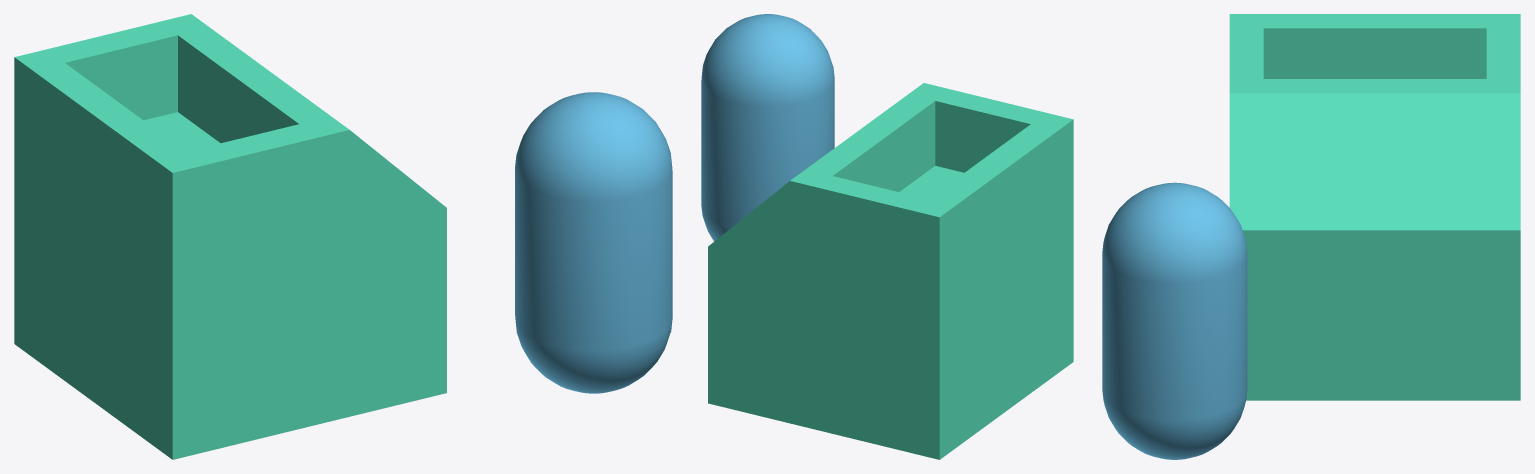
File: simpleworld.glb
3 renders of one model, left to right at view 1: azimuth 30°, elevation 25°; view 2: azimuth 150°, elevation 25°; view 3: azimuth 270°, elevation 25°, orthographic. The views are drawn at different scales.
Visible parts, largest first — view 1: Cube, Capsule; view 2: Cube, Capsule; view 3: Cube, Capsule.
Part boxes in pixels (x1,y1,x2,y2): Cube: [14, 14, 446, 459]; Capsule: [515, 92, 672, 393]; Cube: [708, 83, 1073, 459]; Capsule: [701, 14, 834, 241]; Cube: [1229, 14, 1520, 400]; Capsule: [1102, 182, 1247, 459].
Size of what is drawn, in the model's own units: 3.35 by 2 by 2.88.
